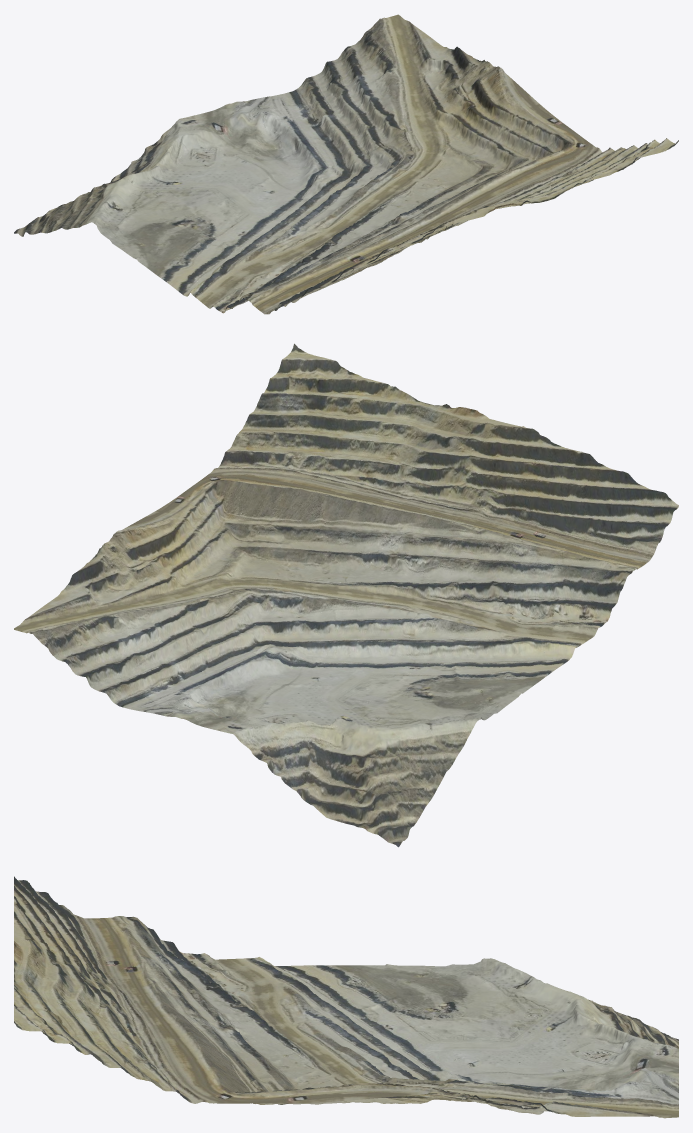
The picture shows the model from 3 angles, top to bottom: view 1: azimuth 30°, elevation 25°; view 2: azimuth 150°, elevation 25°; view 3: azimuth 270°, elevation 25°; orthographic projection. The views are drawn at different scales.
Parts seen in each view (by area): view 1: l2-3-0; view 2: l2-3-0; view 3: l2-3-0.
Boxes of the visible parts, box(x1,y1,x2,y2) form: l2-3-0: box(14, 14, 678, 314); l2-3-0: box(14, 343, 678, 847); l2-3-0: box(14, 876, 678, 1118).
Size of the model in its own units: 595 by 303 by 751.
1 material, 1 textured.
